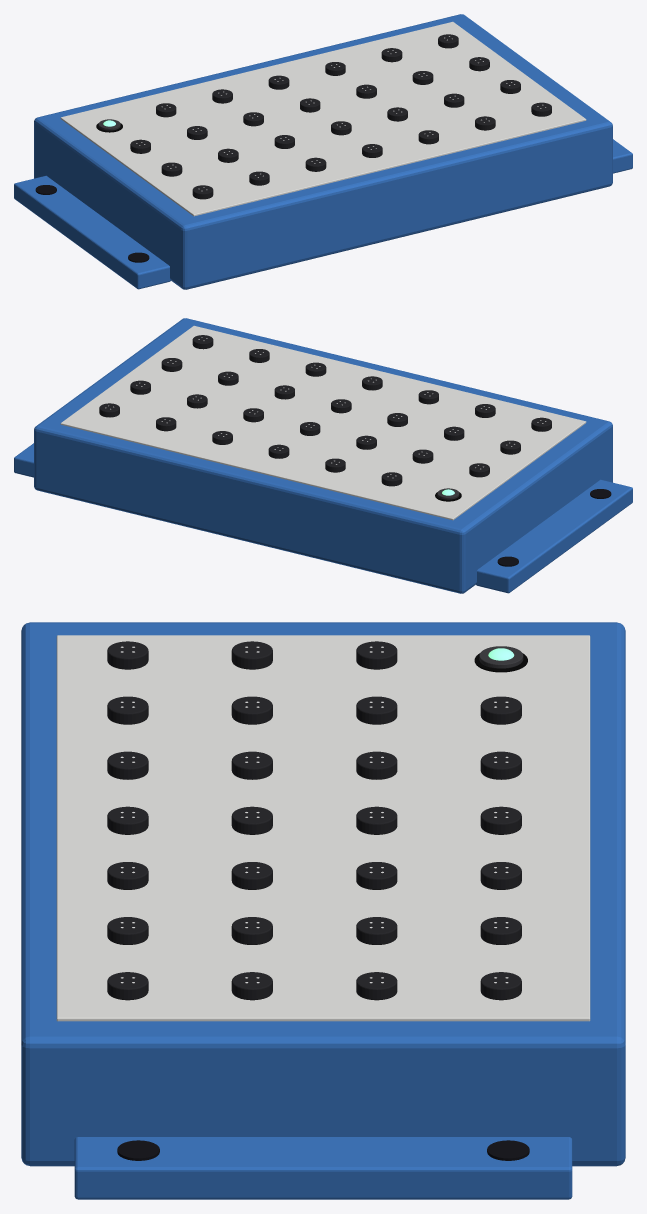
File: DPM.glb
3 views of the same model, one above another, from view 1: azimuth 30°, elevation 25°; view 2: azimuth 150°, elevation 25°; view 3: azimuth 270°, elevation 25° (orthographic). The views are drawn at different scales.
Parts seen in each view (by area): view 1: SW_Body, SW_Panel, SW_Flange_L, SW_Flange_R; view 2: SW_Body, SW_Panel, SW_Flange_L, SW_Flange_R; view 3: SW_Panel, SW_Body, SW_Flange_R, SW_Port_2_shell, SW_Port_4_shell, SW_Port_8_shell, SW_Port_3_shell, SW_Port_6_shell, SW_Port_12_shell, SW_Port_5_shell, SW_Port_7_shell, SW_Port_11_shell (+18 smaller).
Boxes of the visible parts, x1=… form: SW_Body: x1=34, y1=14, x2=612, y2=289; SW_Panel: x1=60, y1=21, x2=586, y2=216; SW_Flange_L: x1=14, y1=175, x2=170, y2=289; SW_Flange_R: x1=613, y1=139, x2=632, y2=173; SW_Body: x1=34, y1=318, x2=612, y2=593; SW_Panel: x1=60, y1=325, x2=586, y2=520; SW_Flange_L: x1=476, y1=479, x2=632, y2=593; SW_Flange_R: x1=14, y1=443, x2=33, y2=477; SW_Panel: x1=56, y1=635, x2=590, y2=1021; SW_Body: x1=21, y1=622, x2=625, y2=1166; SW_Flange_R: x1=74, y1=1137, x2=572, y2=1199; SW_Port_2_shell: x1=356, y1=641, x2=397, y2=669; SW_Port_4_shell: x1=107, y1=641, x2=148, y2=669; SW_Port_8_shell: x1=107, y1=696, x2=148, y2=724; SW_Port_3_shell: x1=231, y1=641, x2=272, y2=669; SW_Port_6_shell: x1=356, y1=696, x2=397, y2=724; SW_Port_12_shell: x1=107, y1=751, x2=148, y2=779; SW_Port_5_shell: x1=480, y1=696, x2=521, y2=724; SW_Port_7_shell: x1=231, y1=696, x2=272, y2=724; SW_Port_11_shell: x1=231, y1=751, x2=272, y2=779.
Bounding box in the file's own units: 3.22 × 0.4465 × 1.7.
